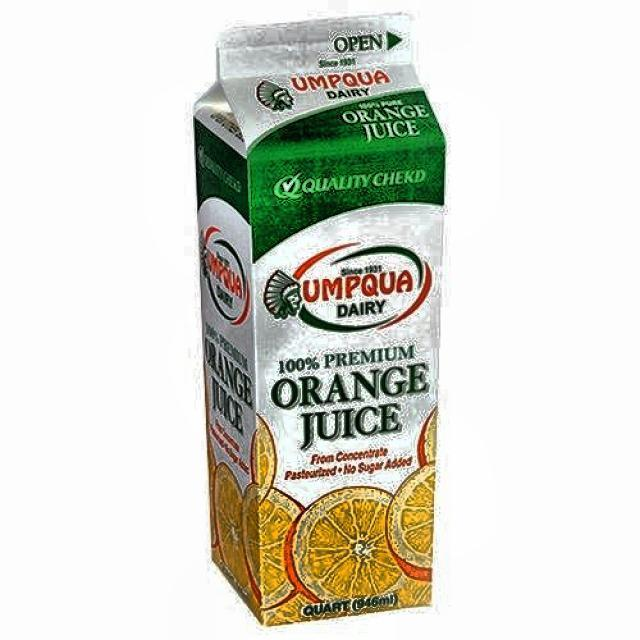cardboard: (192, 11, 446, 626)
